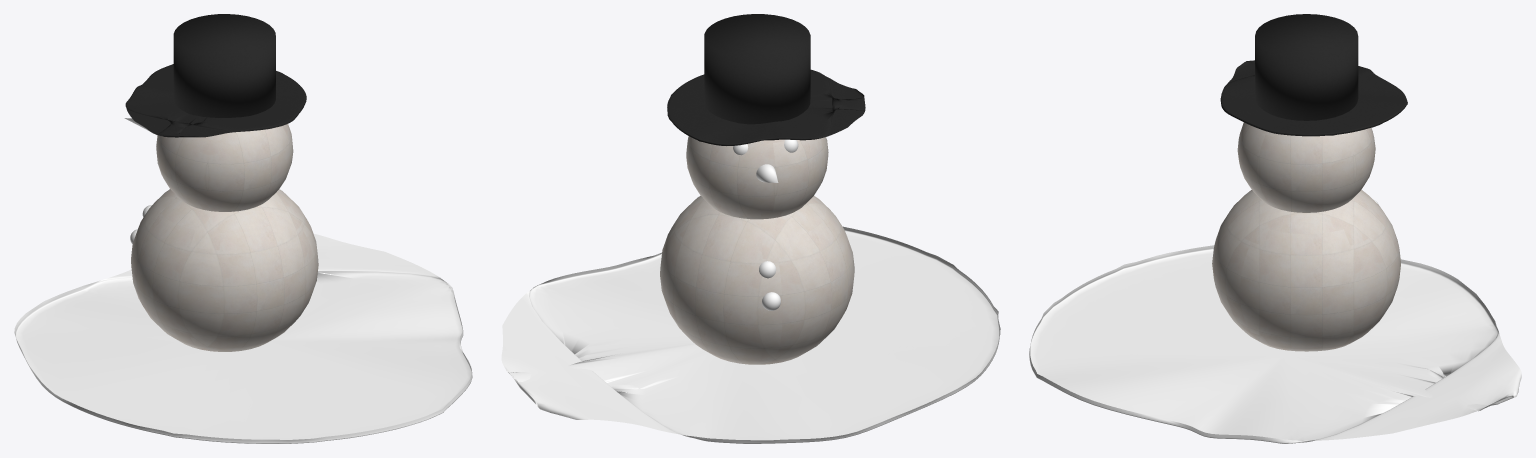
The model's file is asset.glb.
The picture shows the model from 3 angles, left to right: view 1: azimuth 30°, elevation 25°; view 2: azimuth 150°, elevation 25°; view 3: azimuth 270°, elevation 25°; orthographic projection. The views are drawn at different scales.
Visible parts, largest first — view 1: Circle, Sphere, Cylinder, Sphere.001, Circle.001; view 2: Circle, Sphere, Cylinder, Sphere.001, Circle.001; view 3: Circle, Sphere, Cylinder, Sphere.001, Circle.001.
Part boxes in pixels (x1=…): Circle: x1=14, y1=234, x2=472, y2=443; Sphere: x1=131, y1=189, x2=318, y2=351; Cylinder: x1=173, y1=14, x2=275, y2=117; Sphere.001: x1=156, y1=124, x2=293, y2=211; Circle.001: x1=125, y1=64, x2=306, y2=137; Circle: x1=501, y1=226, x2=1000, y2=443; Sphere: x1=660, y1=195, x2=854, y2=364; Cylinder: x1=704, y1=14, x2=810, y2=124; Sphere.001: x1=686, y1=136, x2=828, y2=219; Circle.001: x1=667, y1=69, x2=865, y2=145; Circle: x1=1029, y1=245, x2=1521, y2=443; Sphere: x1=1212, y1=190, x2=1400, y2=351; Cylinder: x1=1255, y1=14, x2=1358, y2=120; Sphere.001: x1=1237, y1=122, x2=1375, y2=212; Circle.001: x1=1220, y1=60, x2=1407, y2=136.
Size of the model in its own units: 9.21 by 6.69 by 9.55.
Materials: 5 (2 with a texture image).
